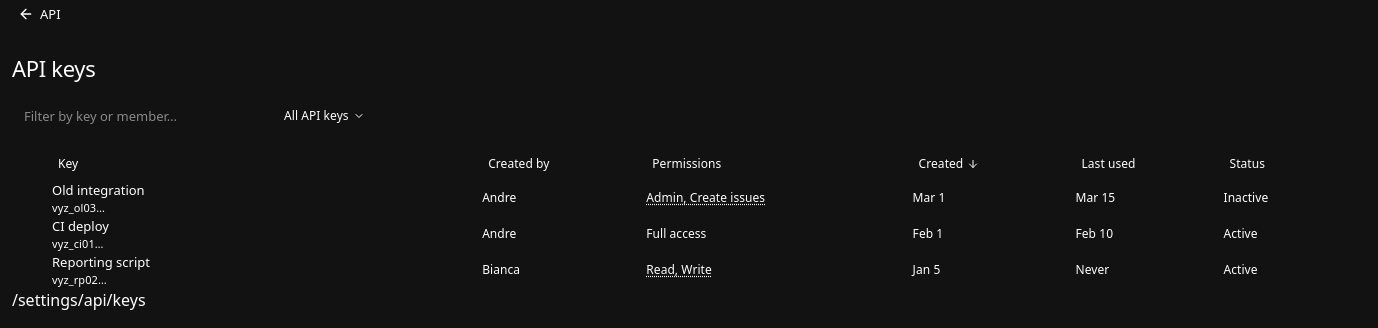
Test case: ApiKeysTablePage › sorting (URL) › clicking a header sorts by it, writes sort and dir to the URL, and clicking again flips it
Expected: the row "CI deploy vyz_ci01… Andre Full access Feb 1 Feb 10 Active" is shown, [12,216,1377,252]
Click the button "Key" at (68, 164), box [52,152,84,176]
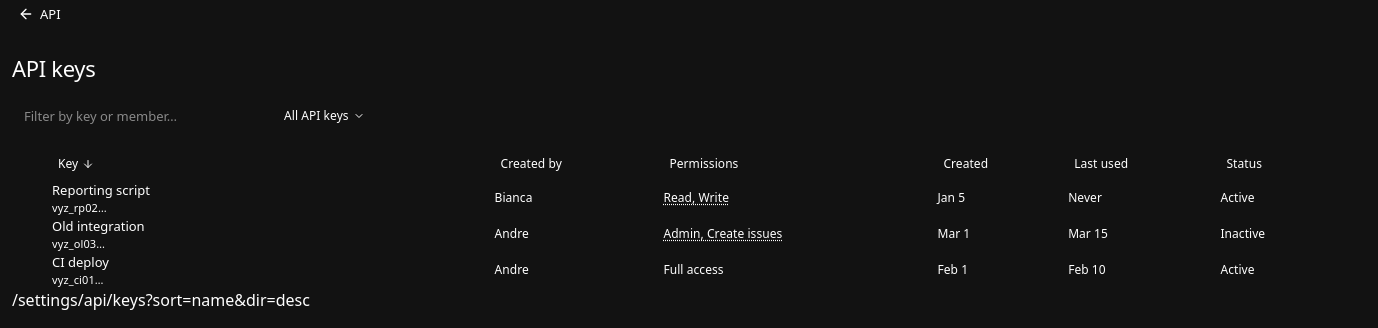
Now the text named "Current URL" reads "/settings/api/keys?sort=name&dir=desc", box [12,289,310,311]
Click the button "Key" at (76, 164), box [52,152,100,176]
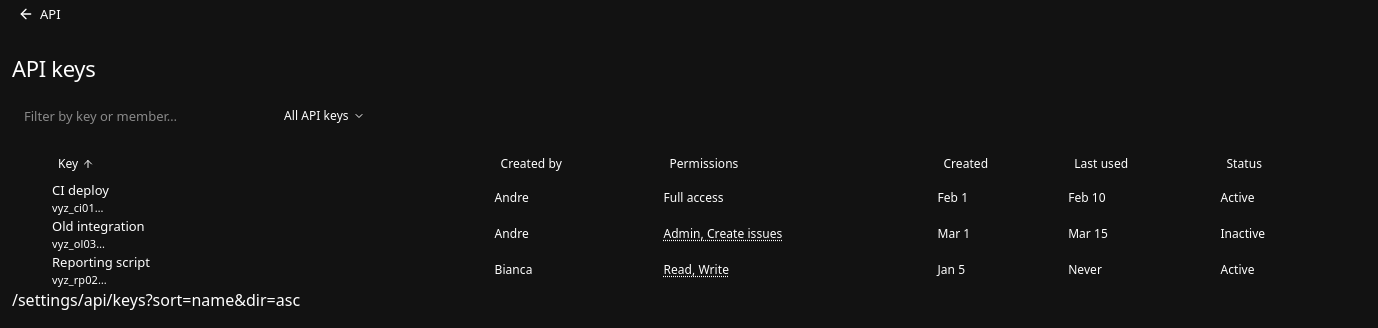
Now the text named "Current URL" reads "/settings/api/keys?sort=name&dir=asc", box [12,289,300,311]
